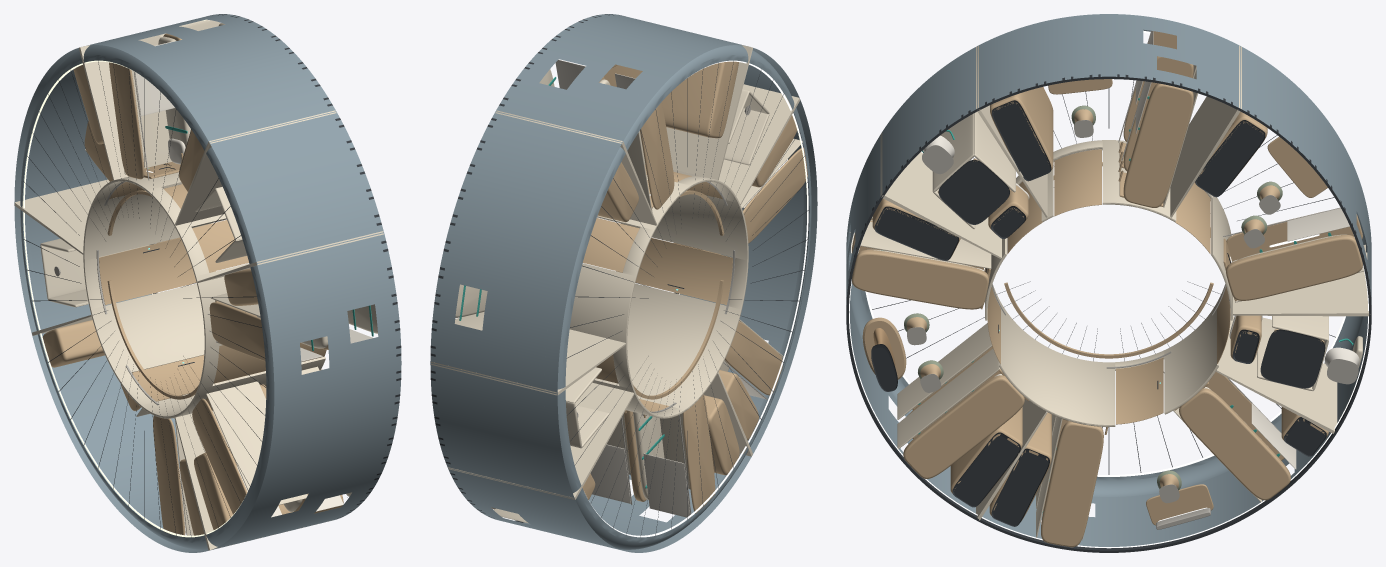
File: proposal_L3_quarters.glb
The picture shows the model from 3 angles, left to right: view 1: azimuth 30°, elevation 25°; view 2: azimuth 150°, elevation 25°; view 3: azimuth 270°, elevation 25°; orthographic projection.
Parts seen in each view (by area): view 1: proposal:L3_D3_lining, proposal:L3_P0_partitions, proposal:L3_B_GUEST_221, proposal:L3_B_CA_75, proposal:L3_B_GUEST_169, proposal:L3_B_CB_259, proposal:L3_B1_crewB_lockers, proposal:L3_G1_guest_lockers, proposal:L3_H2_crew_washroom, proposal:L3_D1_lighting, proposal:L3_H1_guest_washroom, proposal:L3_D2_overhead_rail (+3 smaller); view 2: proposal:L3_D3_lining, proposal:L3_P0_partitions, proposal:L3_B_CB_259, proposal:L3_A1_crewA_lockers, proposal:L3_B_CA_75, proposal:L3_B_GUEST_169, proposal:L3_B_GUEST_221, proposal:L3_G1_guest_lockers, proposal:L3_H1_guest_washroom, proposal:L3_B1_crewB_lockers, proposal:L3_H2_crew_washroom, proposal:L3_D1_lighting (+3 smaller); view 3: proposal:L3_D3_lining, proposal:L3_P0_partitions, proposal:L3_B_GUEST_221, proposal:L3_B_CAPT_15, proposal:L3_B_CA_75, proposal:L3_H1_guest_washroom, proposal:L3_B_CB_311, proposal:L3_B_GUEST_169, proposal:L3_H2_crew_washroom, proposal:L3_G1_guest_lockers, proposal:L3_B_CB_259, proposal:L3_B1_crewB_lockers (+9 smaller).
Boxes of the visible parts, left/top/right/bottom form: proposal:L3_D3_lining: left=14, top=14, right=401, bottom=552; proposal:L3_P0_partitions: left=14, top=20, right=383, bottom=550; proposal:L3_B_GUEST_221: left=192, top=366, right=351, bottom=517; proposal:L3_B_CA_75: left=109, top=20, right=225, bottom=180; proposal:L3_B_GUEST_169: left=209, top=293, right=377, bottom=361; proposal:L3_B_CB_259: left=153, top=415, right=193, bottom=535; proposal:L3_B1_crewB_lockers: left=42, top=320, right=204, bottom=535; proposal:L3_G1_guest_lockers: left=194, top=268, right=347, bottom=529; proposal:L3_H2_crew_washroom: left=40, top=237, right=179, bottom=307; proposal:L3_D1_lighting: left=23, top=19, right=243, bottom=537; proposal:L3_H1_guest_washroom: left=195, top=186, right=246, bottom=262; proposal:L3_D2_overhead_rail: left=107, top=190, right=198, bottom=399; proposal:L3_D3_lining: left=430, top=14, right=817, bottom=552; proposal:L3_P0_partitions: left=431, top=45, right=800, bottom=499; proposal:L3_B_CB_259: left=590, top=394, right=715, bottom=518; proposal:L3_A1_crewA_lockers: left=604, top=61, right=738, bottom=138; proposal:L3_B_CA_75: left=539, top=59, right=674, bottom=212; proposal:L3_B_GUEST_169: left=740, top=138, right=807, bottom=243; proposal:L3_B_GUEST_221: left=719, top=319, right=783, bottom=399; proposal:L3_G1_guest_lockers: left=718, top=115, right=797, bottom=440; proposal:L3_H1_guest_washroom: left=724, top=89, right=769, bottom=165; proposal:L3_B1_crewB_lockers: left=582, top=395, right=739, bottom=499; proposal:L3_H2_crew_washroom: left=565, top=367, right=609, bottom=448; proposal:L3_D1_lighting: left=505, top=60, right=808, bottom=537; proposal:L3_D3_lining: left=846, top=14, right=1371, bottom=552; proposal:L3_P0_partitions: left=880, top=45, right=1370, bottom=520; proposal:L3_B_GUEST_221: left=897, top=323, right=1028, bottom=478; proposal:L3_B_CAPT_15: left=1223, top=207, right=1365, bottom=302; proposal:L3_B_CA_75: left=1118, top=31, right=1197, bottom=207; proposal:L3_H1_guest_washroom: left=922, top=111, right=1029, bottom=238; proposal:L3_B_CB_311: left=1173, top=372, right=1296, bottom=501; proposal:L3_B_GUEST_169: left=849, top=217, right=991, bottom=309; proposal:L3_H2_crew_washroom: left=1229, top=315, right=1362, bottom=391; proposal:L3_G1_guest_lockers: left=872, top=198, right=1022, bottom=507; proposal:L3_B_CB_259: left=1036, top=414, right=1108, bottom=547; proposal:L3_B1_crewB_lockers: left=989, top=407, right=1328, bottom=526.
Bounding box in the file's own units: 2.3 × 8.14 × 8.14.
